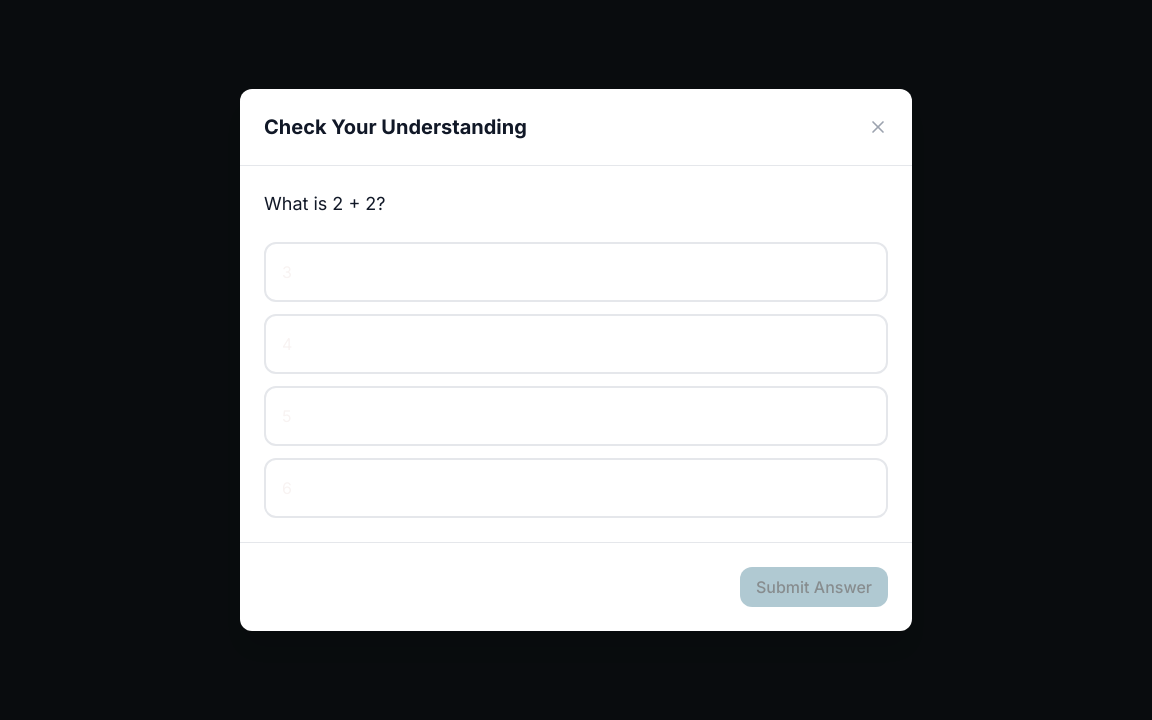
EmbeddedQuestionModal › should show correct result after submission
This screenshot has width=1152, height=720.
Click the button "4": x=287, y=344 left=264, top=314, right=888, bottom=374
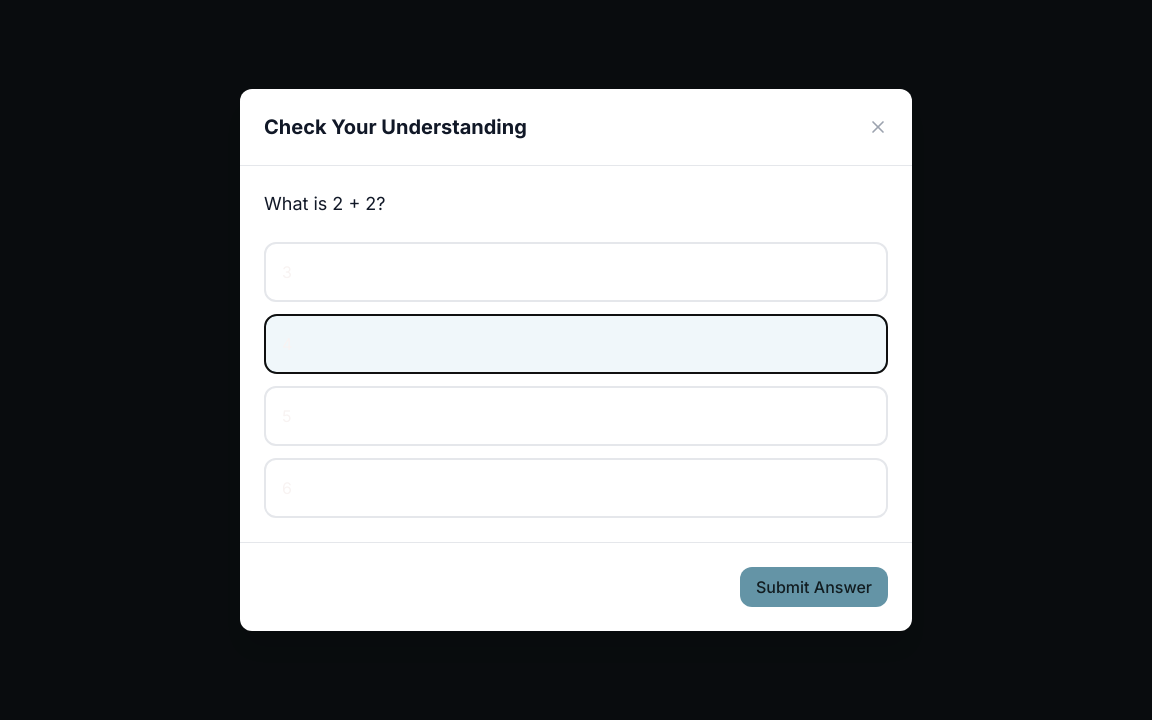
Click the button "Submit Answer": x=814, y=587 left=740, top=567, right=888, bottom=607
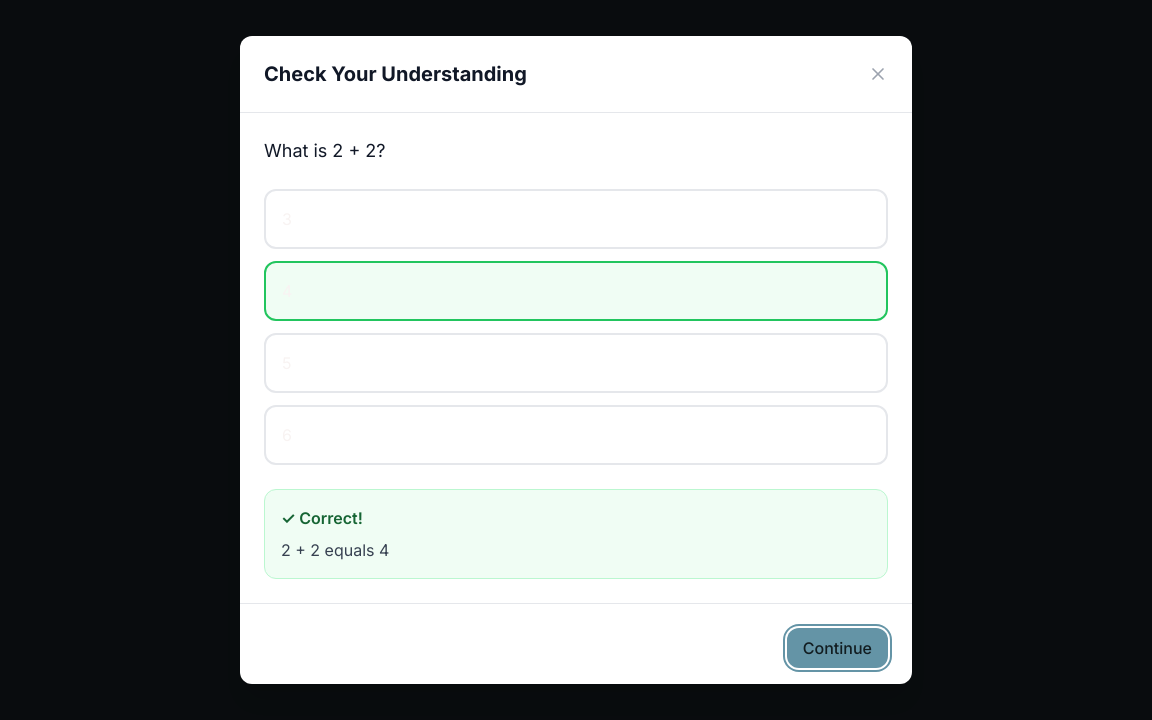
Expected: the text "✓ Correct!" is shown, left=281, top=508, right=363, bottom=528
Expected: the text "2 + 2 equals 4" is shown, left=281, top=540, right=389, bottom=560
